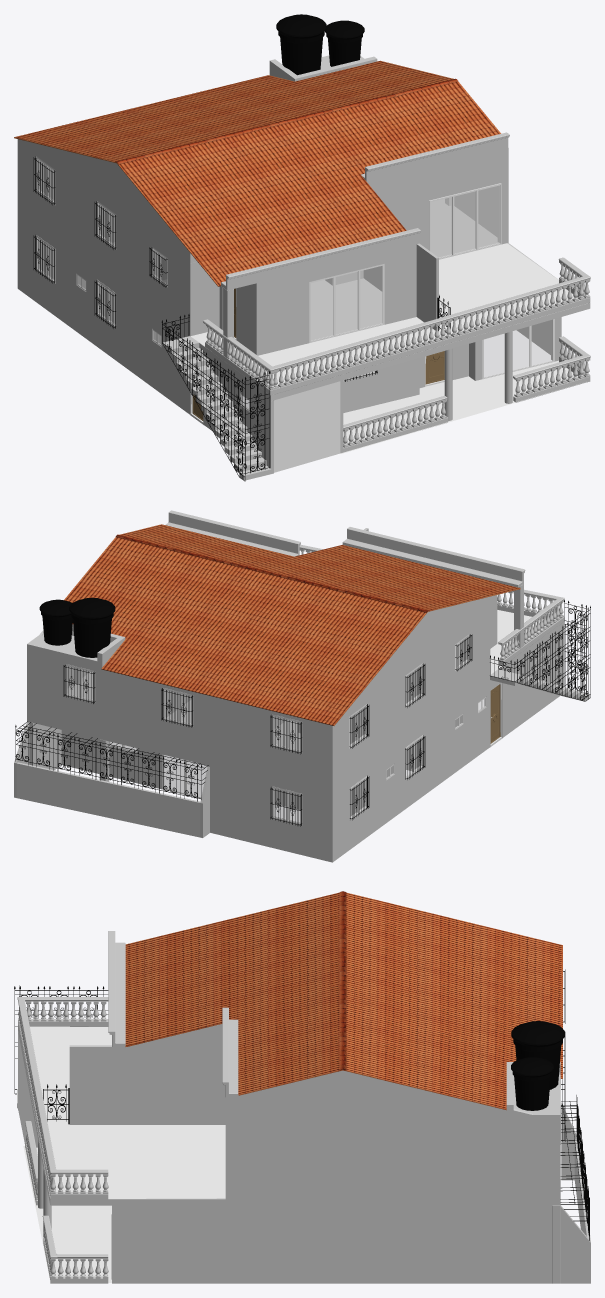
The model's file is luxo.glb.
3 views of the same model, one above another, from view 1: azimuth 30°, elevation 25°; view 2: azimuth 150°, elevation 25°; view 3: azimuth 270°, elevation 25° (orthographic). The views are drawn at different scales.
Visible parts, largest first — view 1: luxo; view 2: luxo; view 3: luxo.
Part boxes in pixels (x1,y1,x2,y2): luxo: [14, 14, 590, 481]; luxo: [14, 510, 590, 862]; luxo: [14, 891, 590, 1283].
Size of what is drawn, in the model's own units: 13.12 by 7.67 by 16.73.
11 materials, 1 textured.
